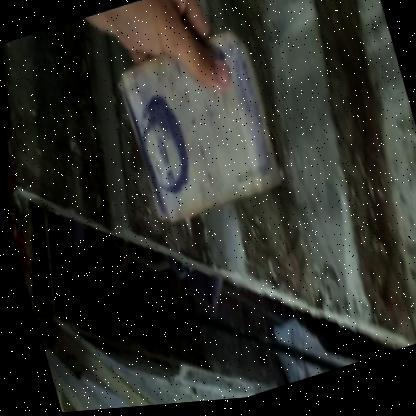ten-front-vef: (109, 28, 284, 232)
